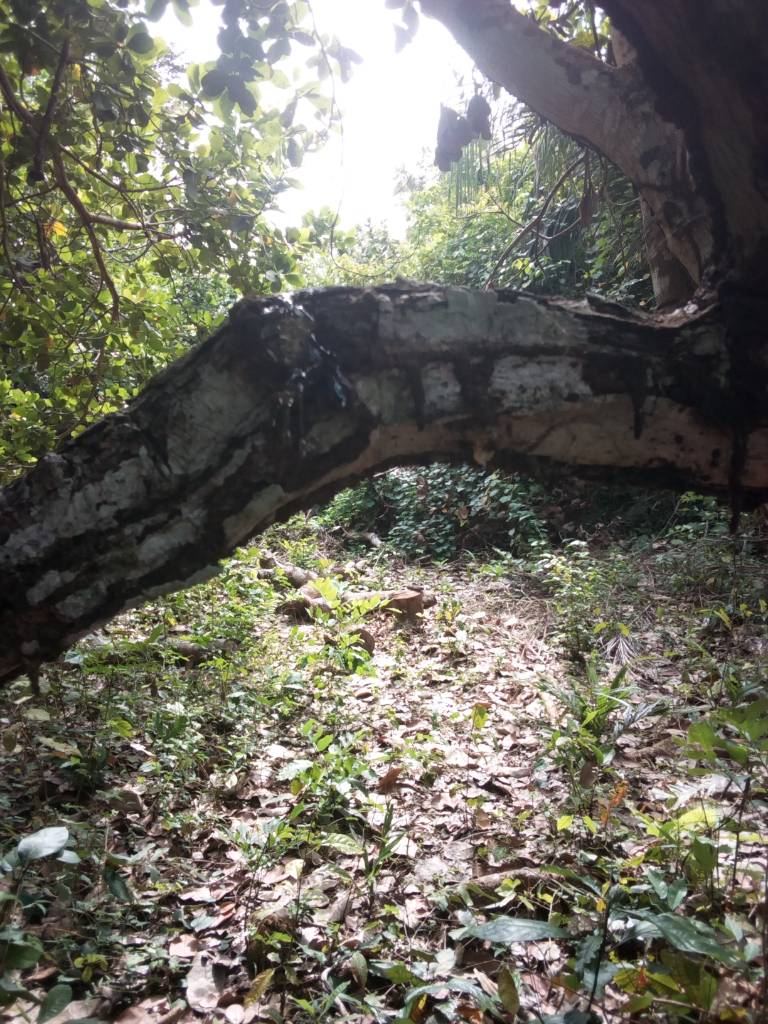Termites: (361, 286, 758, 489), (8, 394, 274, 630)
